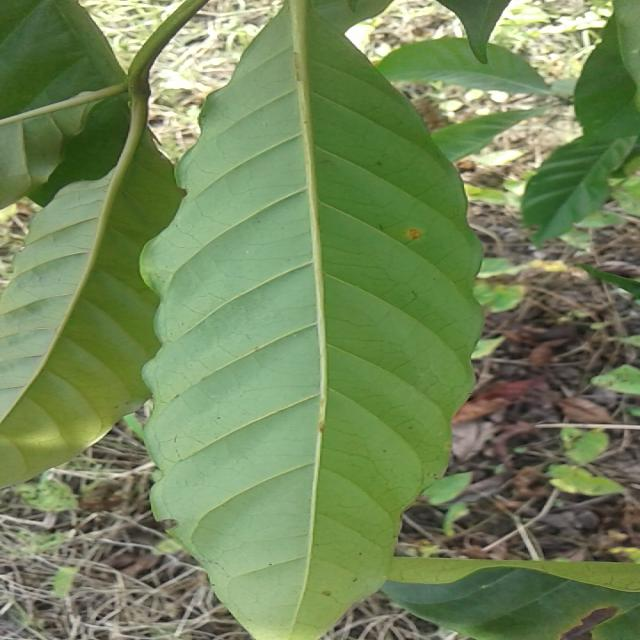Enfermedad-Roya: (140, 0, 483, 640)
